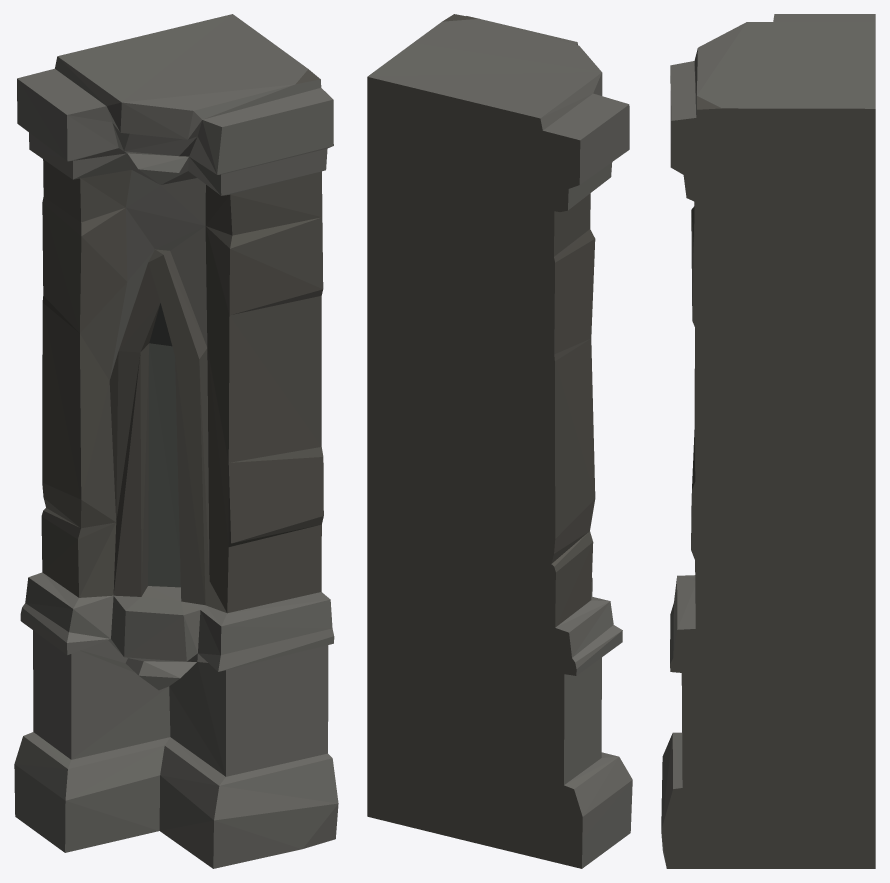
The model's file is MDungeon_PillarSmall_Base_Quater.FBX.
3 views of the same model, side by side, from view 1: azimuth 30°, elevation 25°; view 2: azimuth 150°, elevation 25°; view 3: azimuth 270°, elevation 25° (orthographic). The views are drawn at different scales.
Visible parts, largest first — view 1: MDungeon_PillarSmall_Base_Quater_LOD0; view 2: MDungeon_PillarSmall_Base_Quater_LOD0; view 3: MDungeon_PillarSmall_Base_Quater_LOD0.
Boxes of the visible parts, x1,y1,x2,y2 form: MDungeon_PillarSmall_Base_Quater_LOD0: (14,14,338,868); MDungeon_PillarSmall_Base_Quater_LOD0: (367,14,632,868); MDungeon_PillarSmall_Base_Quater_LOD0: (661,14,875,868).
Size of what is drawn, in the model's own units: 1.18 by 3.88 by 0.9927.
